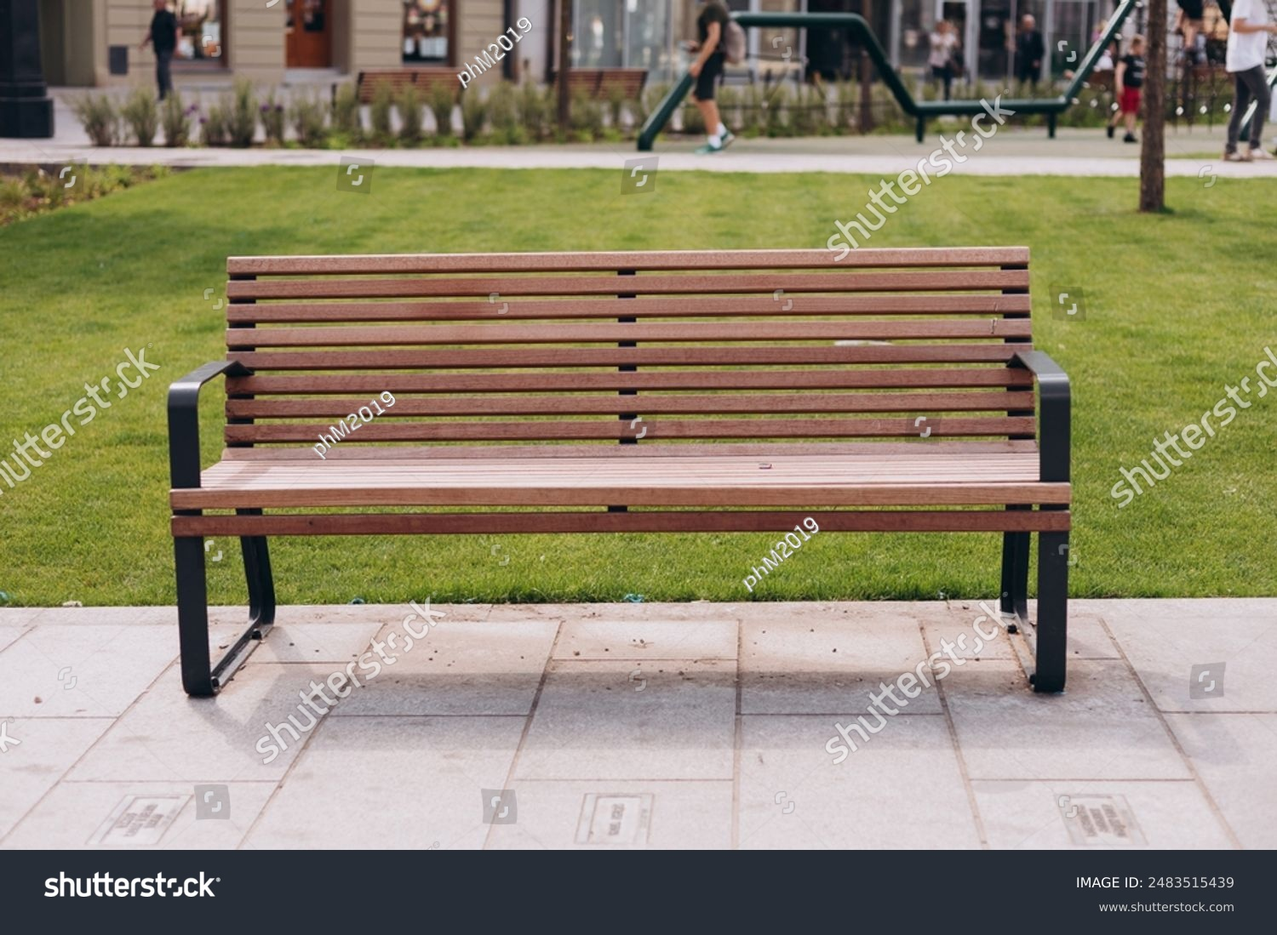Chair: (135, 246, 1102, 707)
